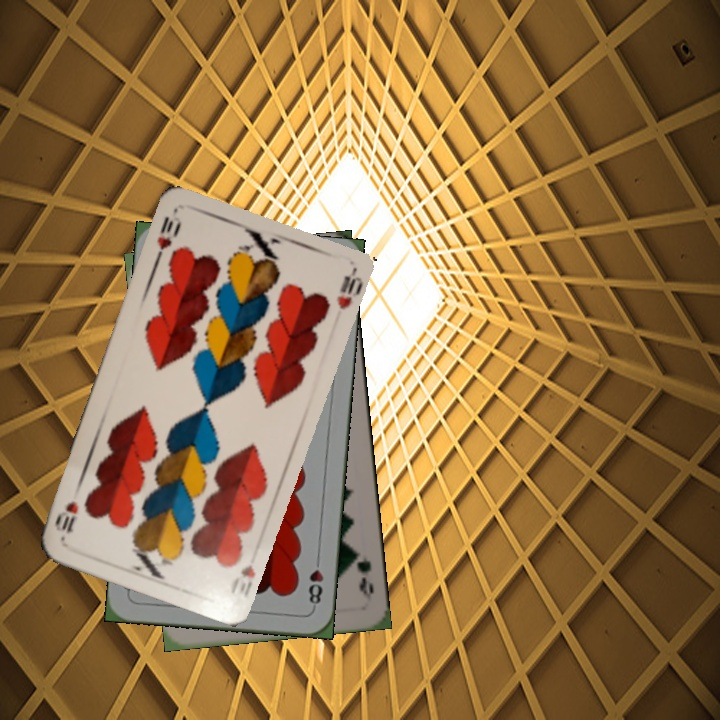G9: (348, 546, 377, 604)
H10: (151, 212, 184, 265), (226, 560, 257, 601)
H8: (304, 552, 326, 611)
